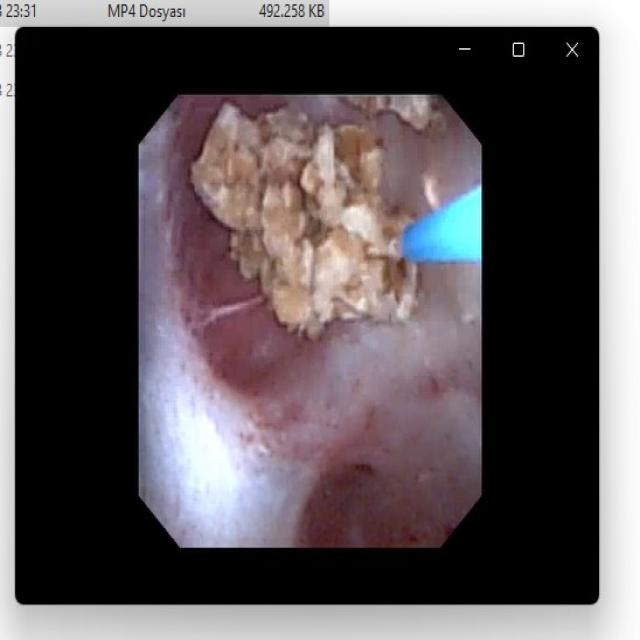fiber: (406, 190, 479, 257)
stone: (194, 111, 413, 335), (347, 101, 429, 129)
